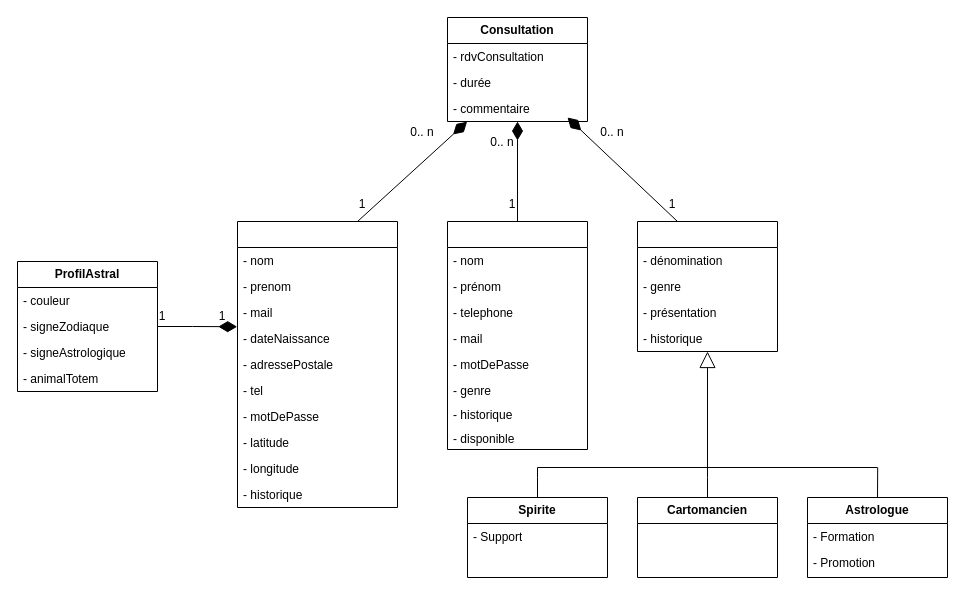
This 965x598 diagram has some shape labels left out. Here are the shapes that lost their labels. From the top down, the box of each, then its label:
(636, 220, 778, 352): Médium
(446, 220, 588, 450): Employé
(236, 220, 398, 508): Client
